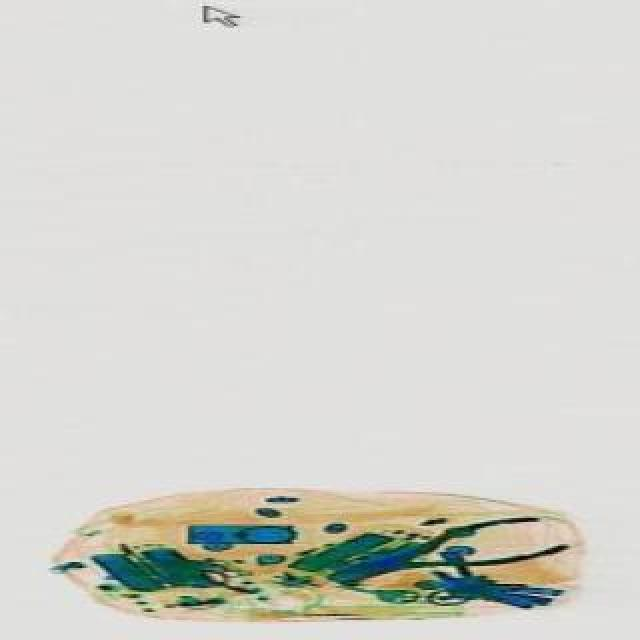wrench: (320, 504, 564, 604)
